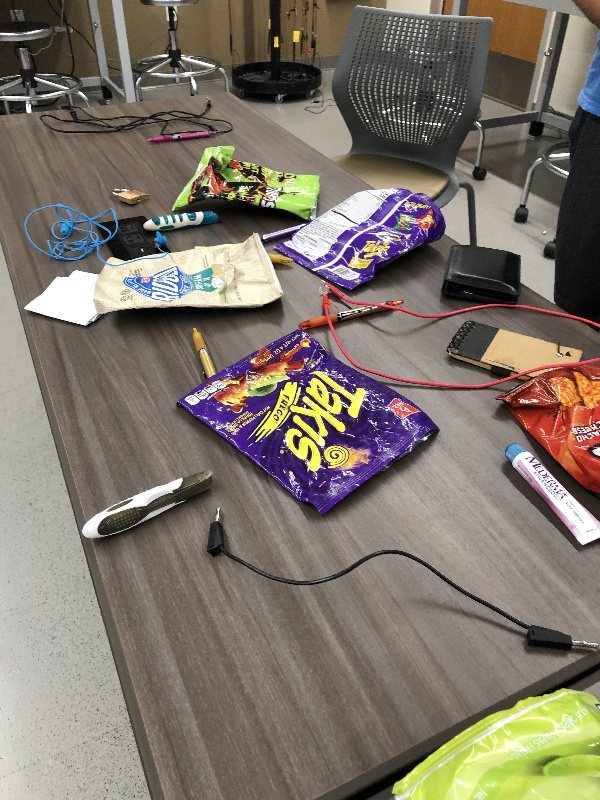bag: (173, 329, 445, 522), (358, 683, 600, 793), (273, 184, 449, 292), (91, 231, 289, 318), (492, 361, 600, 501), (165, 143, 324, 225)
